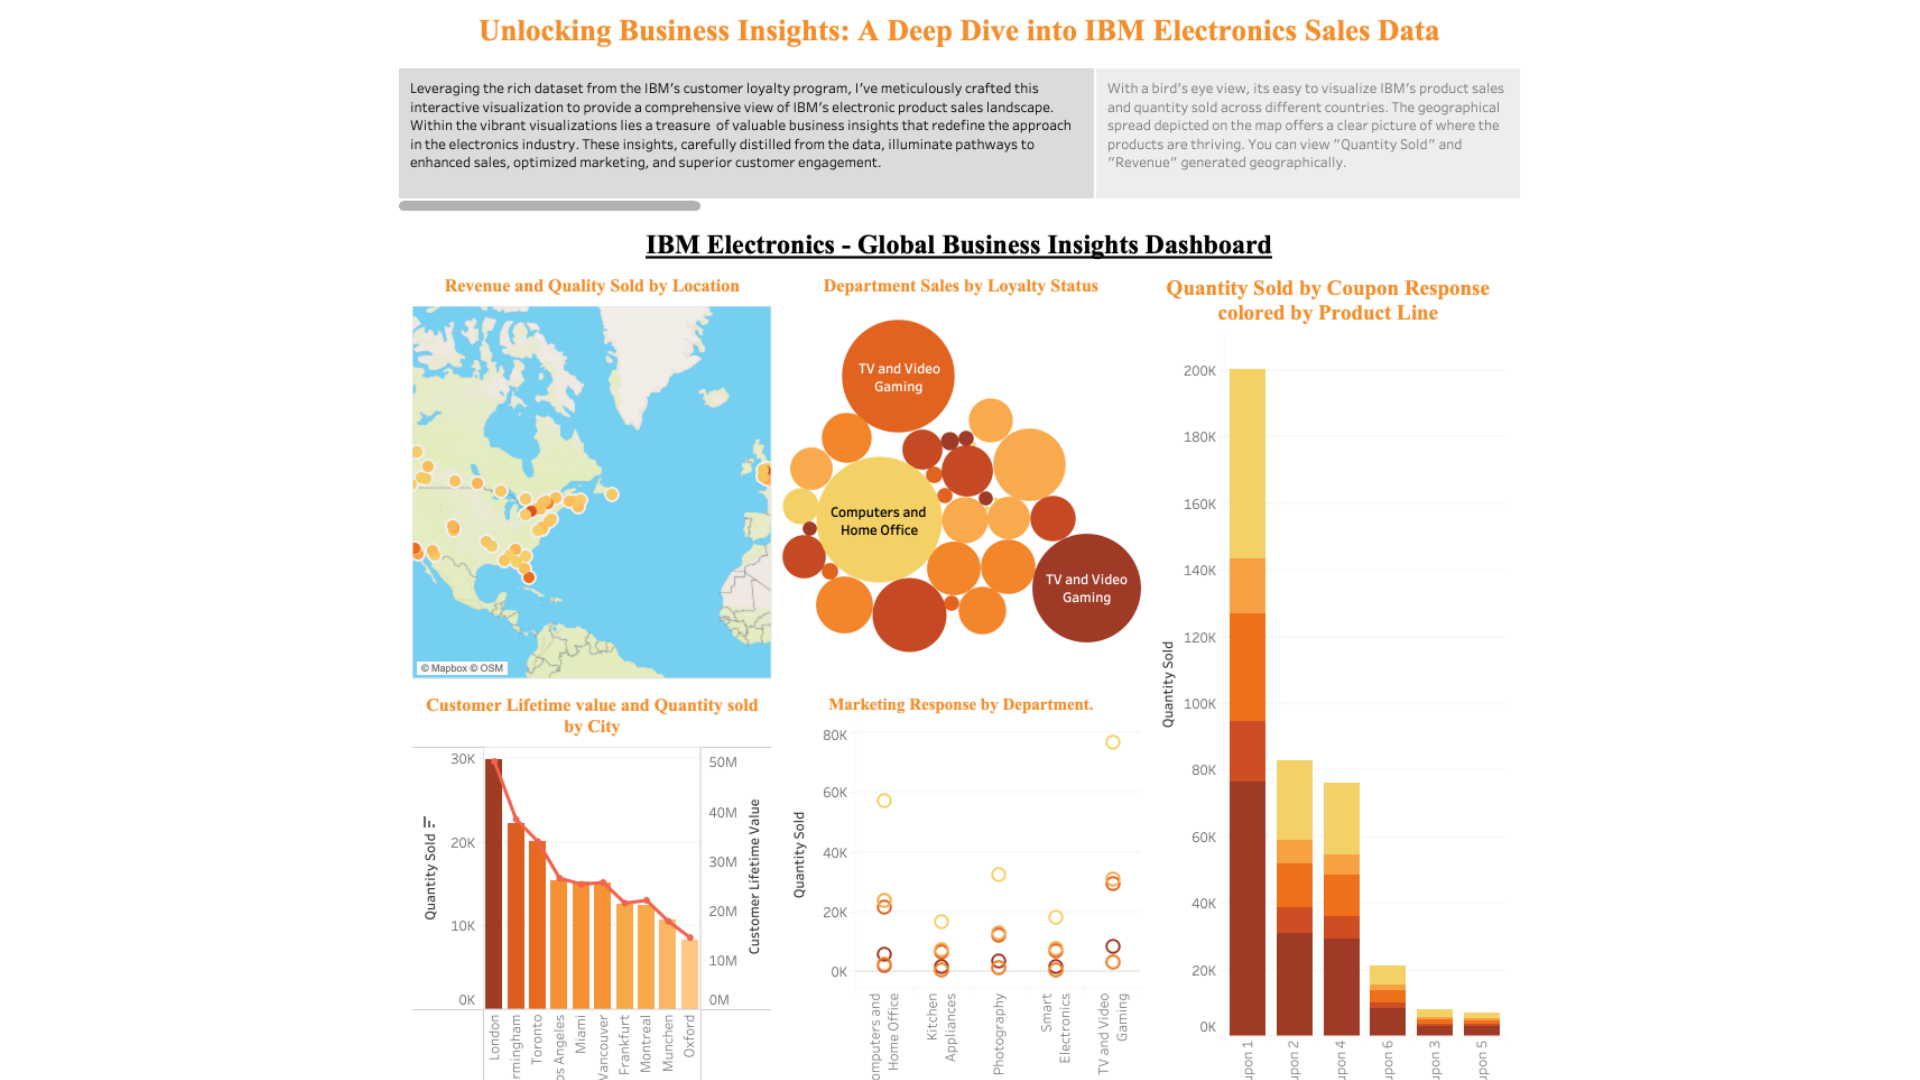

The dashboard page shown, as its layout file describes it:
{"tool":"tableau","page":{"name":"Dashboard 1","canvas":[1000,800],"ordinal":0},"visuals":[{"type":"title","box":[8,8,984,35]},{"type":"worksheet","title":"RevenueQTY Sold","mark":"Automatic","rows":["Latitude"],"cols":["Longitude"],"box":[8,43,329,374.5]},{"type":"worksheet","title":"DeptSales","mark":"Circle","box":[337,43,329,374.5]},{"type":"worksheet","title":"QtyCouponResponse","mark":"Automatic","rows":["Quantity Sold"],"cols":["Coupon Response"],"box":[666,43,326,749]},{"type":"worksheet","title":"Lifetime_value","mark":"Bar","rows":["Quantity Sold","Customer Lifetime Value"],"cols":["City"],"box":[8,417.5,329,374.5]},{"type":"worksheet","title":"Marketing Response by Department.","mark":"Shape","rows":["Quantity Sold"],"cols":["Product Line"],"box":[337,417.5,329,374.5]}]}

Visuals, with their boxes on the page's 1000x800 design canvas (x1, y1, x2, y2). These are canvas units, not pixel positions in the 1920x1080 screenshot, which may show the page scaled, cropped or inside an application window:
title: region(8, 8, 992, 43)
"RevenueQTY Sold" worksheet: region(8, 43, 337, 418)
"DeptSales" worksheet (Circle marks): region(337, 43, 666, 418)
"QtyCouponResponse" worksheet: region(666, 43, 992, 792)
"Lifetime_value" worksheet (Bar marks): region(8, 418, 337, 792)
"Marketing Response by Department." worksheet (Shape marks): region(337, 418, 666, 792)
